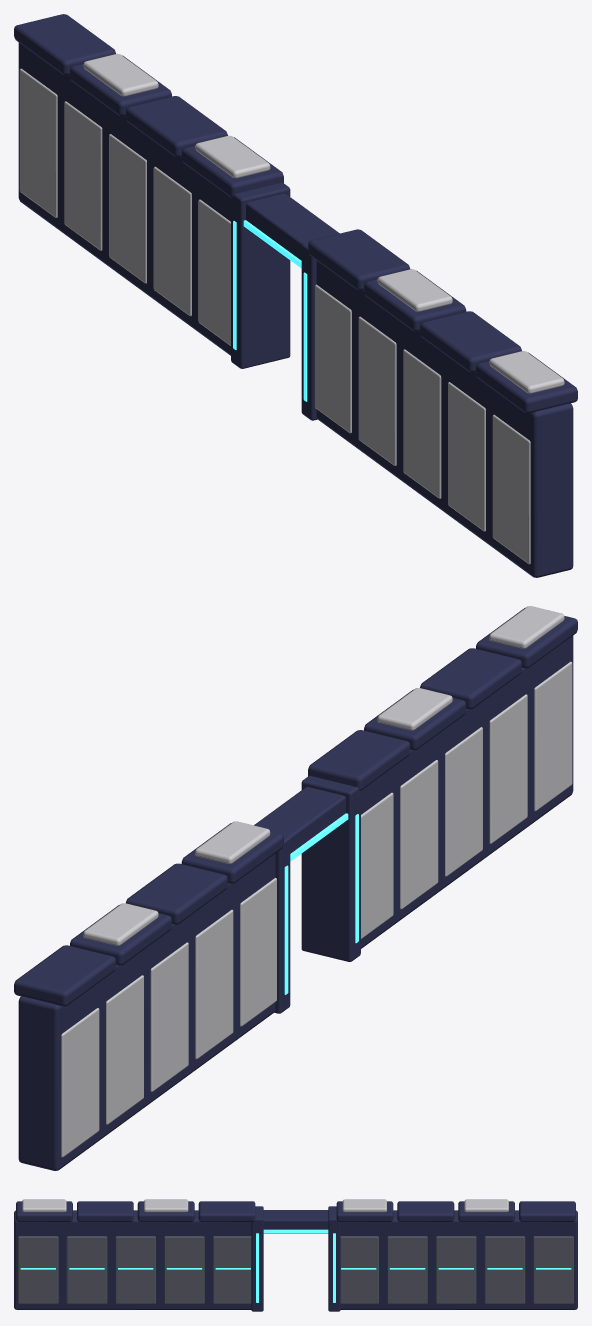
File: BULKHEAD_cockpit.glb
3 views of the same model, one above another, from view 1: azimuth 30°, elevation 25°; view 2: azimuth 150°, elevation 25°; view 3: azimuth 270°, elevation 25° (orthographic). The views are drawn at different scales.
Parts seen in each view (by area): view 1: BULKHEAD_cockpit.001; view 2: BULKHEAD_cockpit.001; view 3: BULKHEAD_cockpit.001.
Part boxes in pixels (<box>): BULKHEAD_cockpit.001: <box>14,14,577,577</box>; BULKHEAD_cockpit.001: <box>14,606,577,1170</box>; BULKHEAD_cockpit.001: <box>14,1199,577,1311</box>.
Size of the model in its own units: 0.66 by 2.19 by 11.
